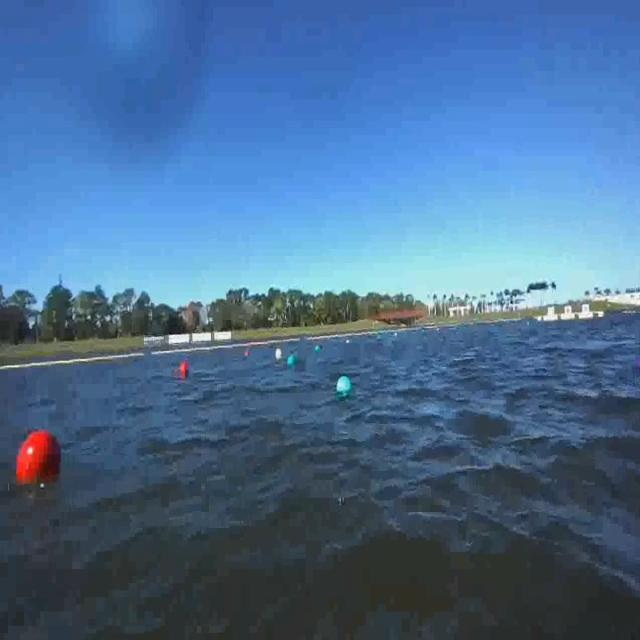green-buoy: (338, 374, 354, 399), (287, 355, 295, 366), (314, 346, 320, 354)
red-buoy: (15, 424, 66, 492)
red-column-buoy: (183, 360, 192, 377)
